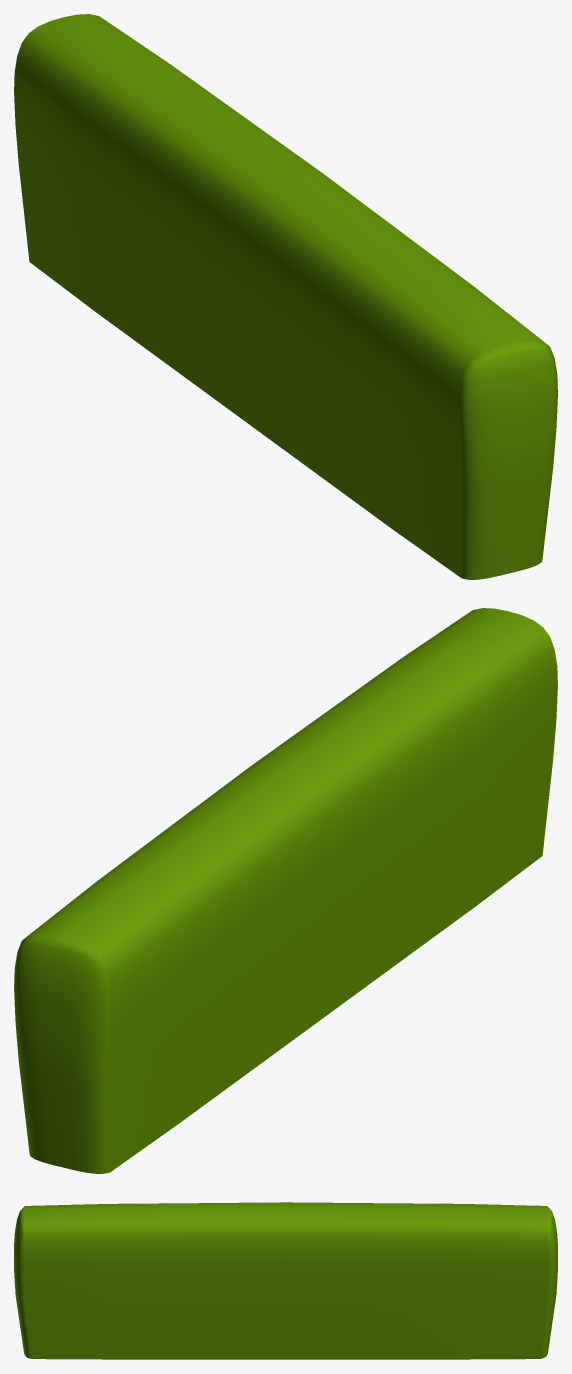
File: Enviro_PlasticHedges_001.fbx
The picture shows the model from 3 angles, top to bottom: view 1: azimuth 30°, elevation 25°; view 2: azimuth 150°, elevation 25°; view 3: azimuth 270°, elevation 25°; orthographic projection. The views are drawn at different scales.
Visible parts, largest first — view 1: Enviro_PlasticHedge_001; view 2: Enviro_PlasticHedge_001; view 3: Enviro_PlasticHedge_001.
Boxes of the visible parts, bbox=[...] form: Enviro_PlasticHedge_001: bbox=[14, 14, 557, 579]; Enviro_PlasticHedge_001: bbox=[14, 608, 557, 1173]; Enviro_PlasticHedge_001: bbox=[14, 1202, 557, 1359].
Bounding box in the file's own units: 44.4 × 99.07 × 349.
